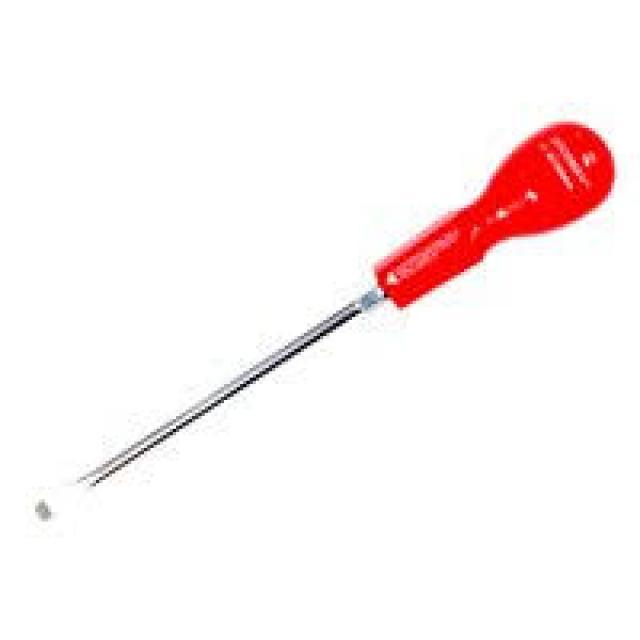screwdriver: (90, 206, 551, 626)
